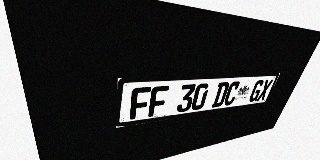0: (190, 83, 210, 111)
3: (176, 84, 196, 113)
C: (222, 81, 241, 106)
D: (211, 82, 230, 108)
F: (130, 87, 151, 120), (148, 85, 169, 117)
G: (247, 80, 265, 102)
X: (256, 79, 273, 101)
